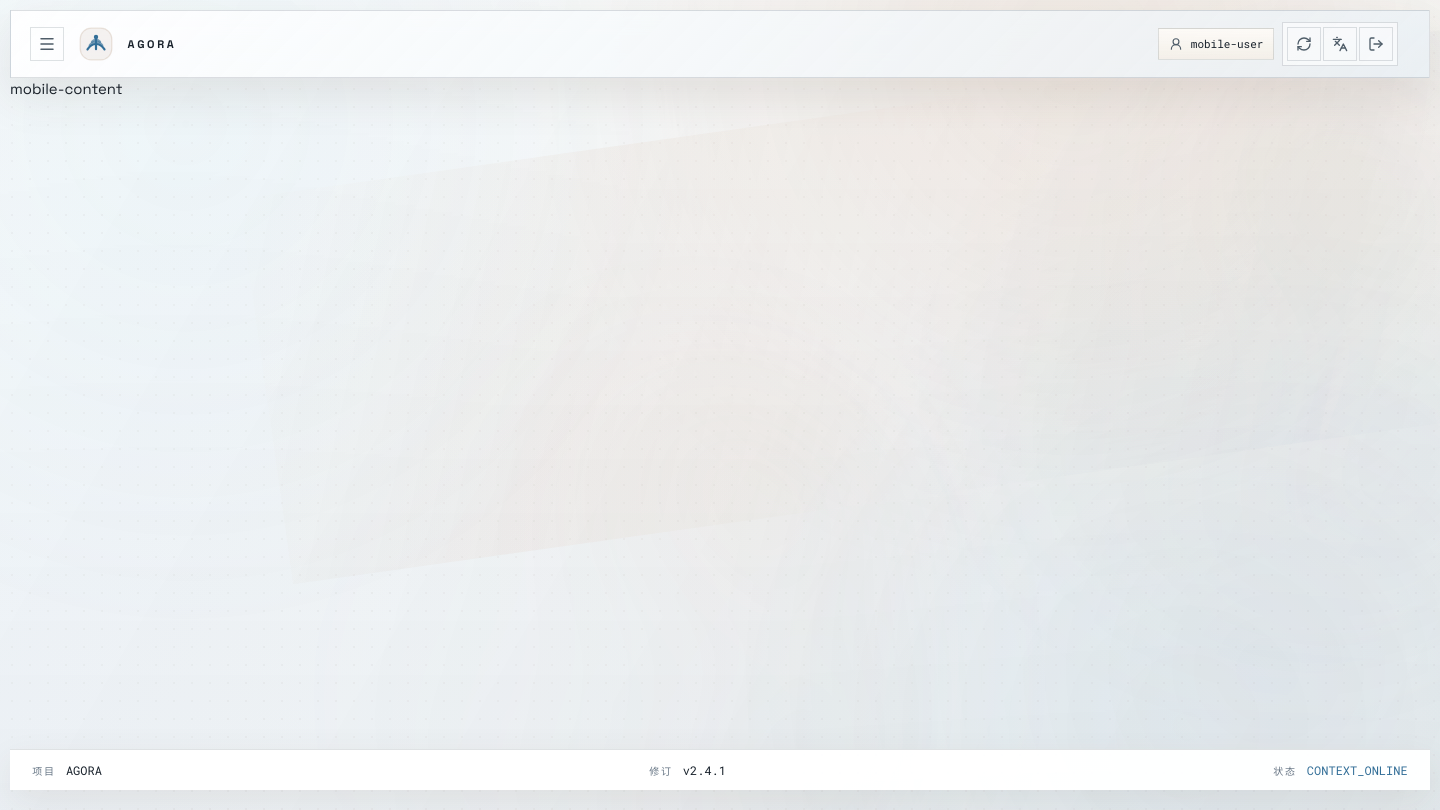
Test: dashboard mobile shell › keeps mobile navigation links out of the accessibility tree until the drawer opens
The image size is (1440, 810).
Expected: the link "概览" is not shown
Click the button named "打开导航" at (47, 44), box [30,27,64,61]
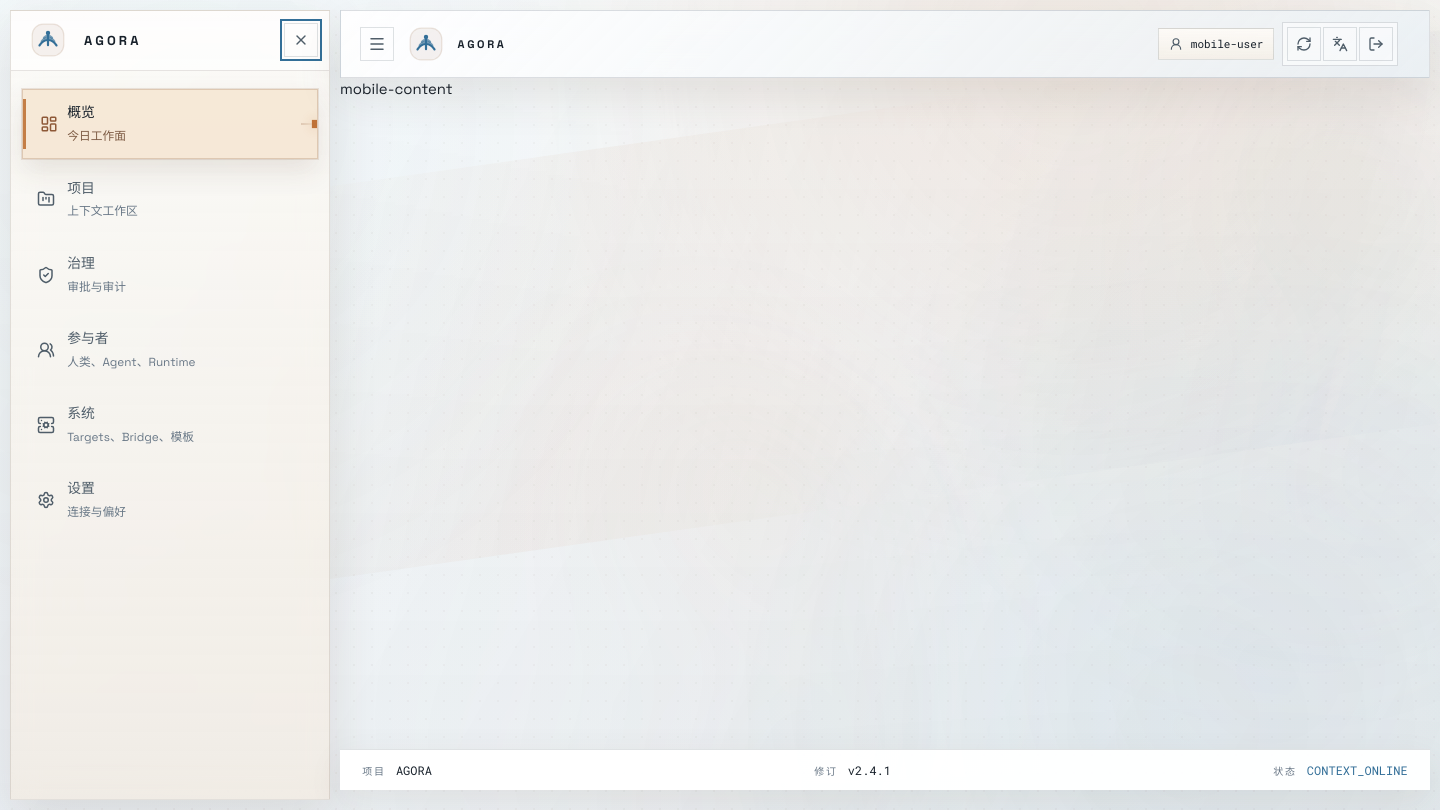
Expected: the link "概览 今日工作面" is shown, [22,90,318,159]
